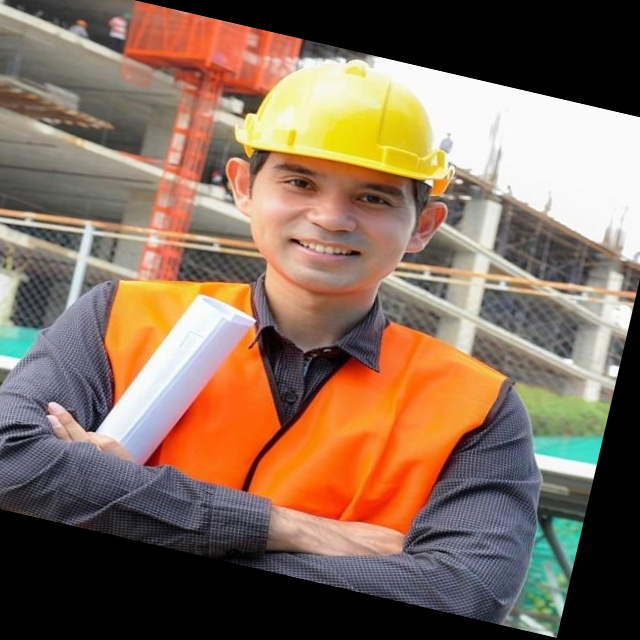Con_Casco: (201, 35, 481, 317)
Con_Chaleco: (43, 248, 520, 615)
